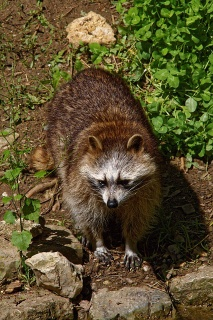Raccoon: (25, 65, 175, 278)
